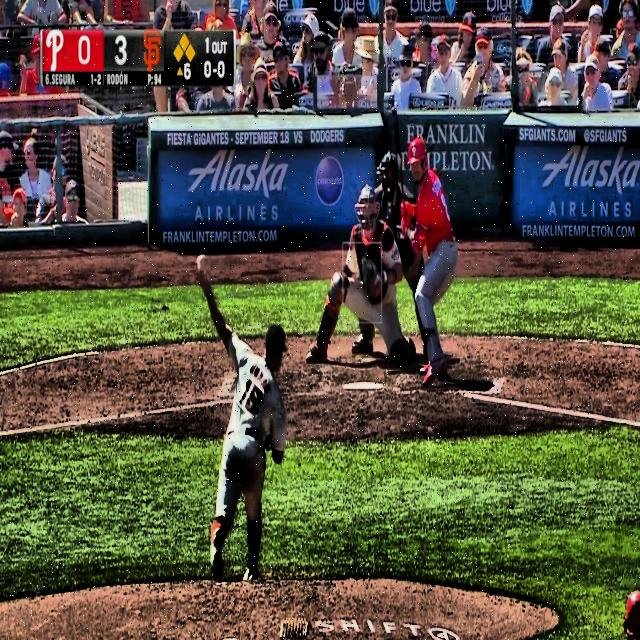baseball: (197, 253, 207, 270)
